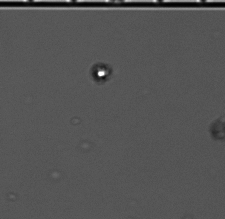Living Cell: (92, 62, 114, 84)
